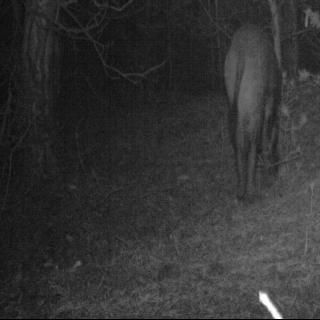Pig: (227, 22, 288, 200)
